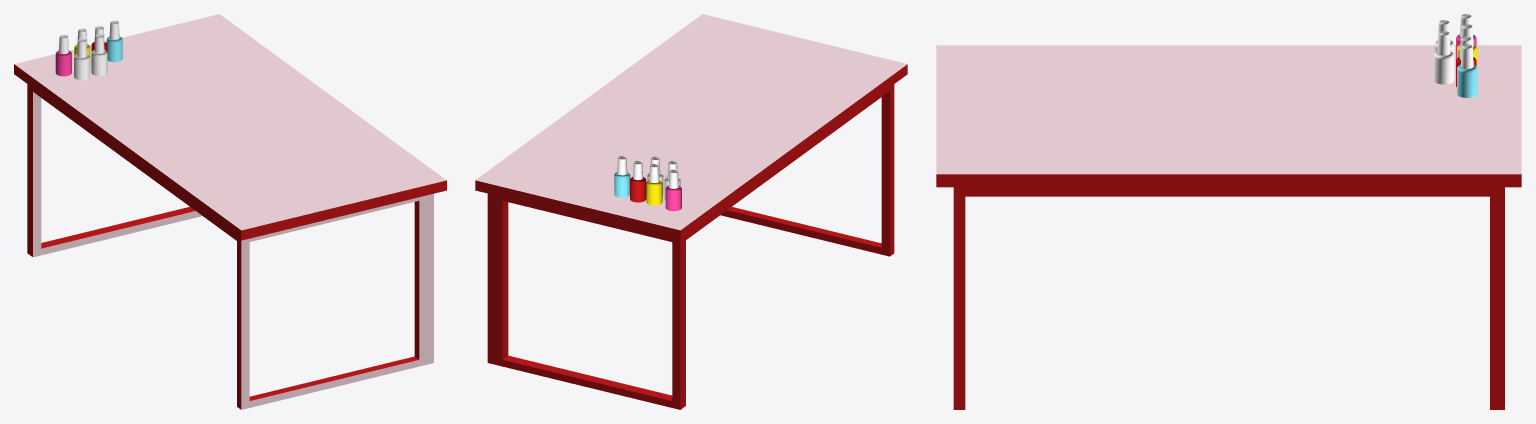
The model's file is k_masa.obj.
3 renders of one model, left to right at view 1: azimuth 30°, elevation 25°; view 2: azimuth 150°, elevation 25°; view 3: azimuth 270°, elevation 25°, orthographic. The views are drawn at different scales.
Parts seen in each view (by area): view 1: Cube.161_m_softred, Cube.161_m_red, Cube.161_m_beyaz, Cube.161_oje_pembe; view 2: Cube.161_m_softred, Cube.161_m_red, Cube.161_m_beyaz, Cube.161_oje_sarı, Cube.161_oje_pembe; view 3: Cube.161_m_softred, Cube.161_m_red, Cube.161_m_beyaz, Cube.161_oje_mavi.
Boxes of the visible parts, x1=… form: Cube.161_m_softred: x1=14, y1=14, x2=446, y2=409; Cube.161_m_red: x1=14, y1=42, x2=446, y2=409; Cube.161_m_beyaz: x1=58, y1=20, x2=119, y2=75; Cube.161_oje_pembe: x1=55, y1=50, x2=71, y2=76; Cube.161_m_softred: x1=475, y1=14, x2=907, y2=230; Cube.161_m_red: x1=475, y1=64, x2=907, y2=409; Cube.161_m_beyaz: x1=617, y1=156, x2=678, y2=195; Cube.161_oje_sarı: x1=646, y1=179, x2=662, y2=205; Cube.161_oje_pembe: x1=665, y1=185, x2=681, y2=211; Cube.161_m_softred: x1=936, y1=45, x2=1521, y2=174; Cube.161_m_red: x1=936, y1=57, x2=1521, y2=409; Cube.161_m_beyaz: x1=1433, y1=14, x2=1473, y2=84; Cube.161_oje_mavi: x1=1457, y1=64, x2=1477, y2=97.
Bounding box in the file's own units: 10.55 × 10.99 × 20.22.
